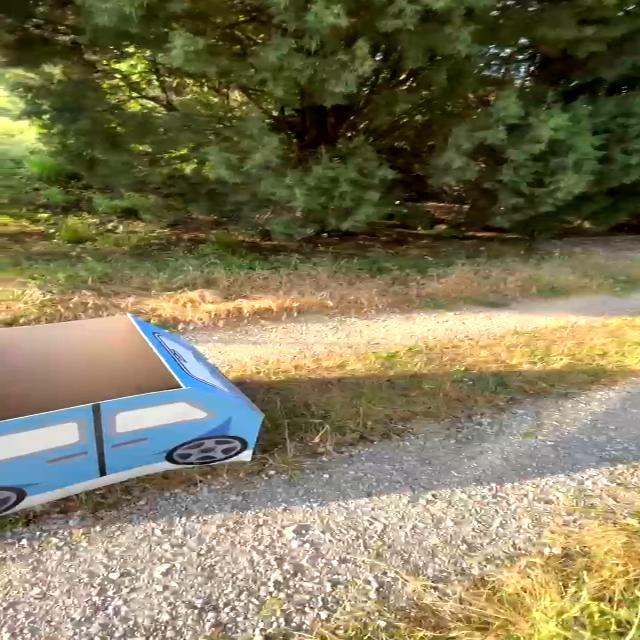blue_car: (0, 278, 313, 540)
